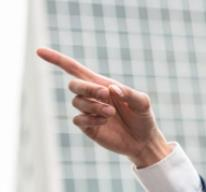up: (33, 43, 159, 152)
